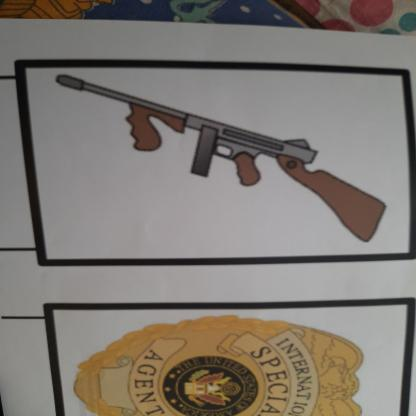Bootlegger: (38, 61, 402, 252)
G-man: (51, 308, 393, 416)
